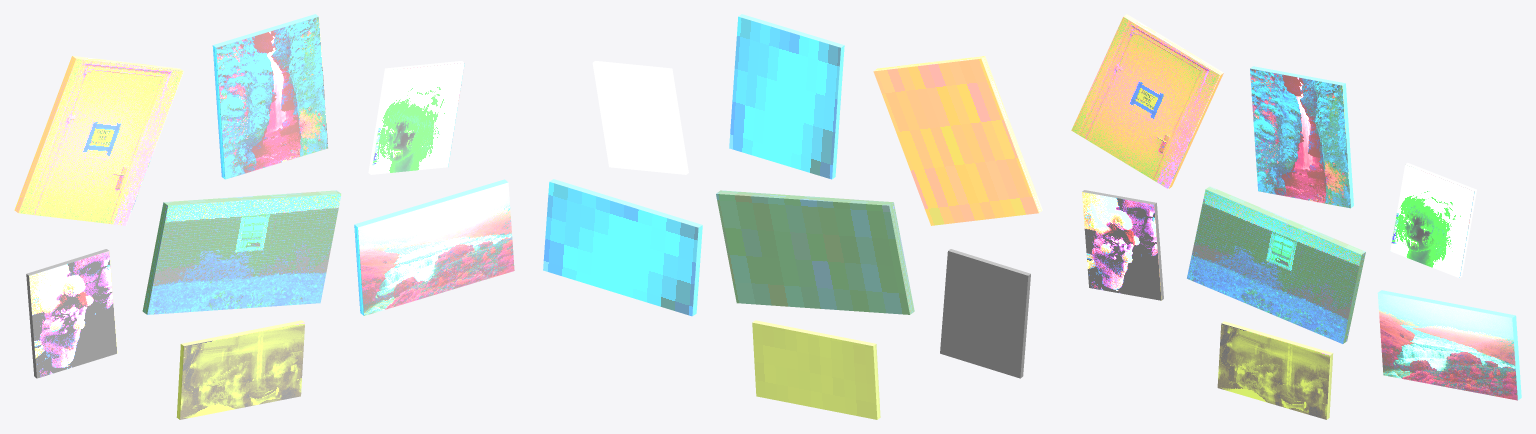
Rendered from photos.glb.
3 views of the same model, side by side, from view 1: azimuth 30°, elevation 25°; view 2: azimuth 150°, elevation 25°; view 3: azimuth 330°, elevation 25° (orthographic). The views are drawn at different scales.
Parts seen in each view (by area): view 1: photos; view 2: photos; view 3: photos.
Boxes of the visible parts, left/top/right/bottom form: photos: left=14, top=14, right=514, bottom=419; photos: left=543, top=14, right=1042, bottom=419; photos: left=1071, top=14, right=1521, bottom=419.
Size of the model in its own units: 2.53 by 1.91 by 0.0419.
